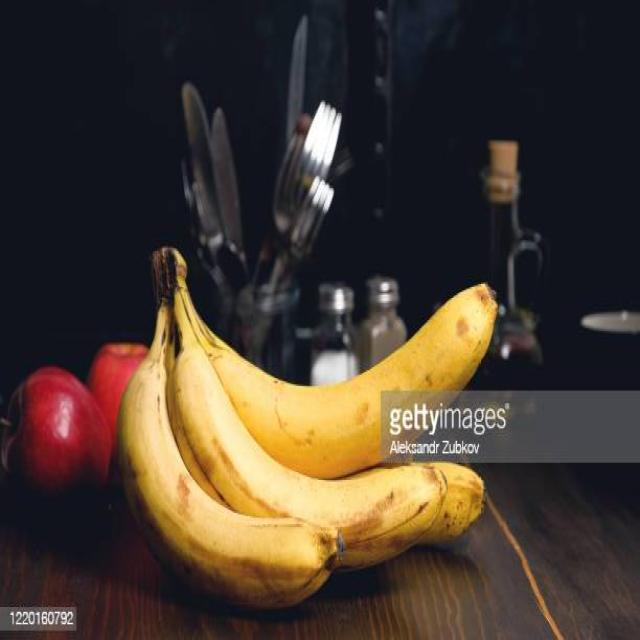Banana: (113, 237, 502, 620)
